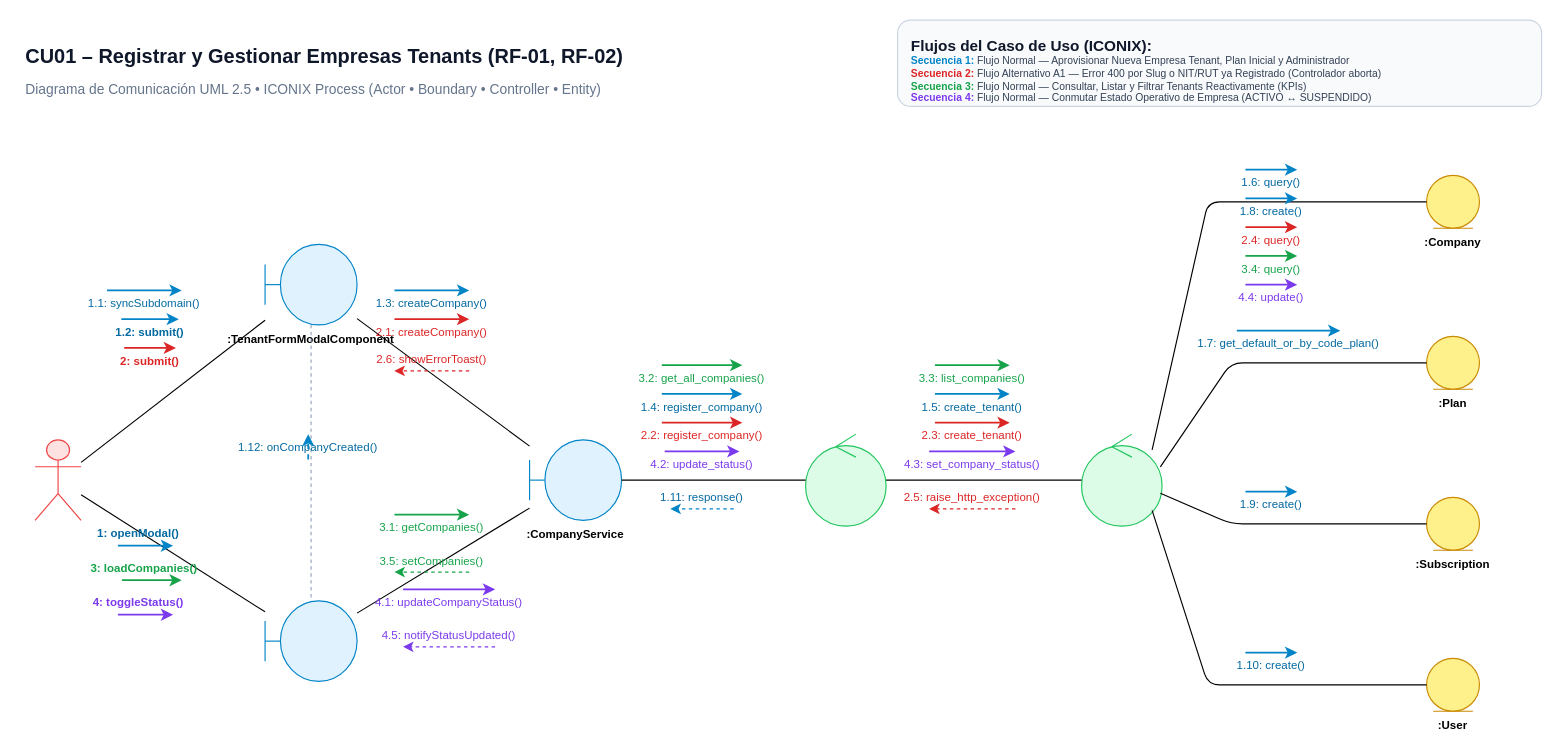
Image size: 1562x753. Some labels were removed from this diagram. Each missing label, with the centre of its shape:
":CompanyRoutes" belongs at (x=845, y=479).
":Superadmin" belongs at (x=57, y=479).
":TenantService" belongs at (x=1121, y=479).
":TenantsPageComponent" belongs at (x=310, y=640).
